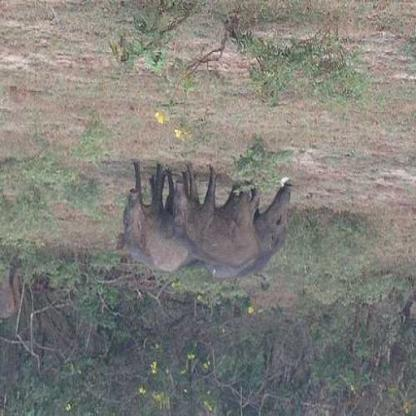boar: (158, 174, 265, 278), (227, 177, 307, 293), (115, 168, 189, 275)
